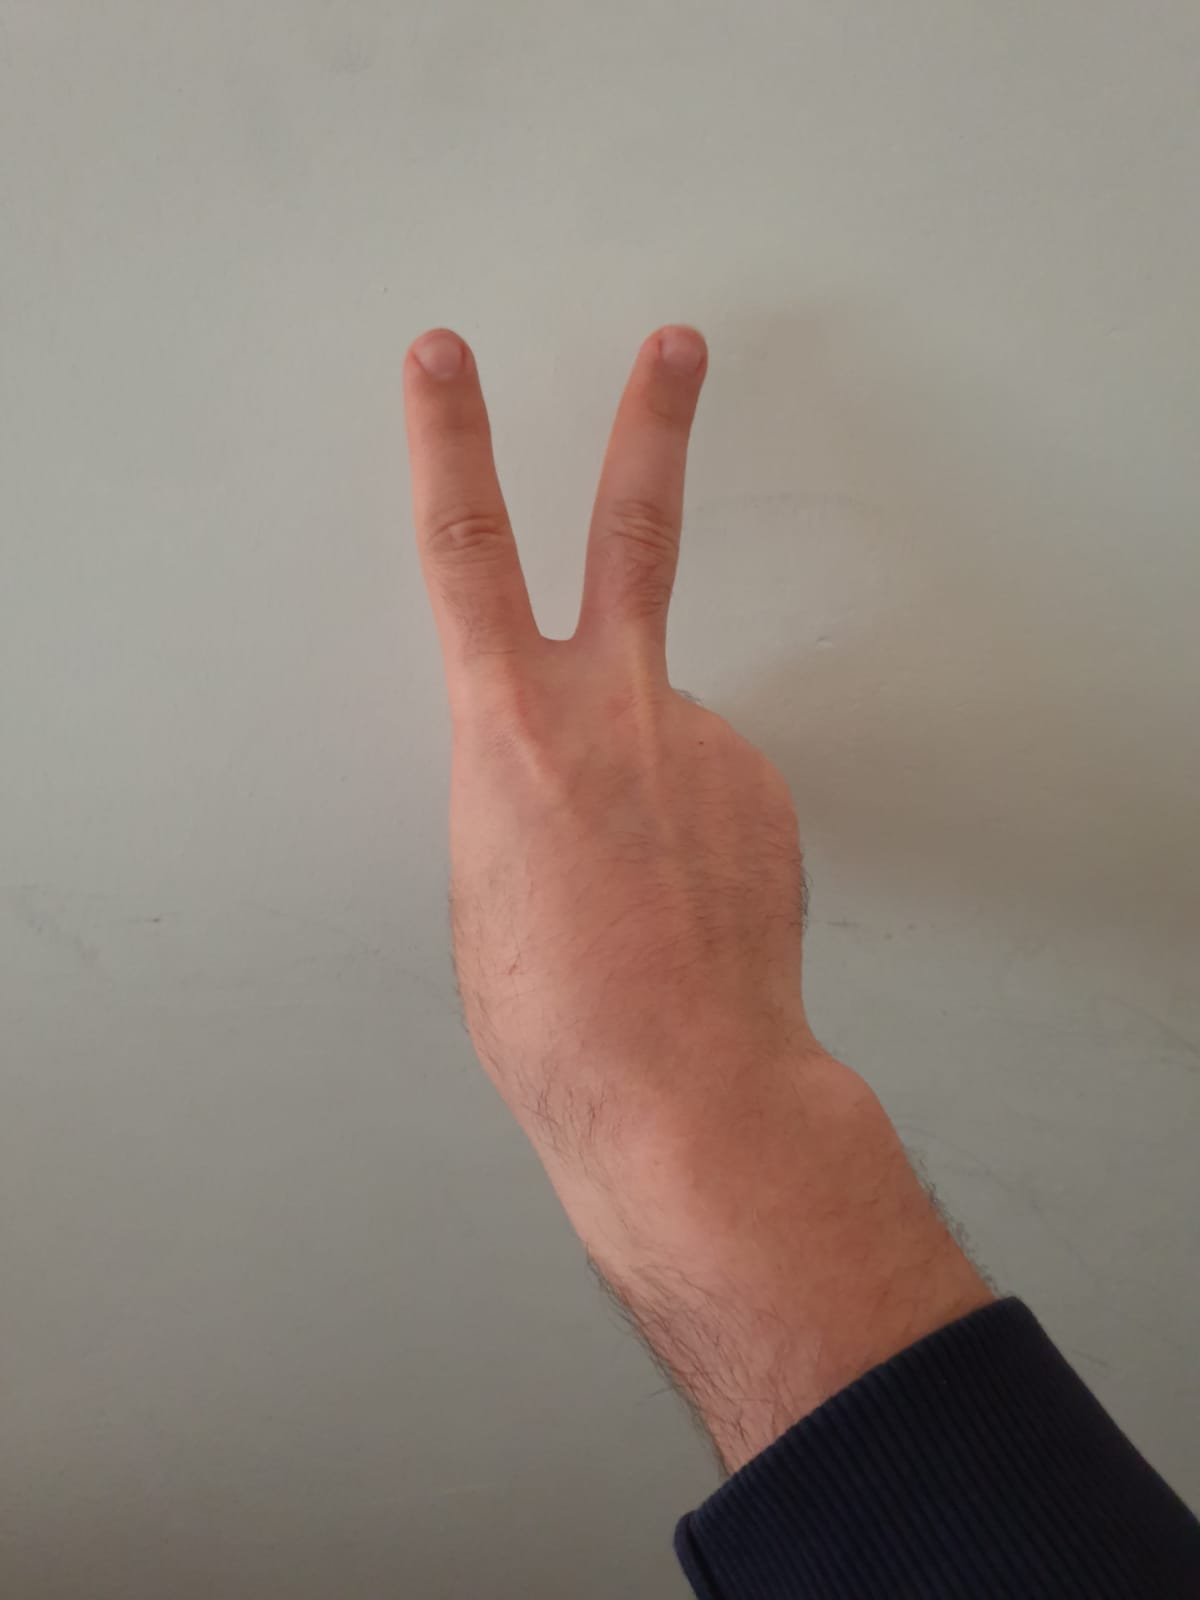Peace: (391, 323, 983, 1425)
